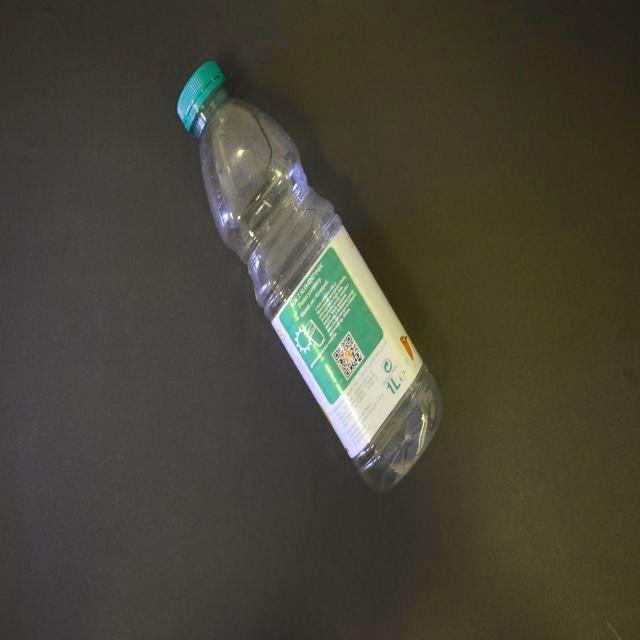bottle: (177, 61, 445, 494)
